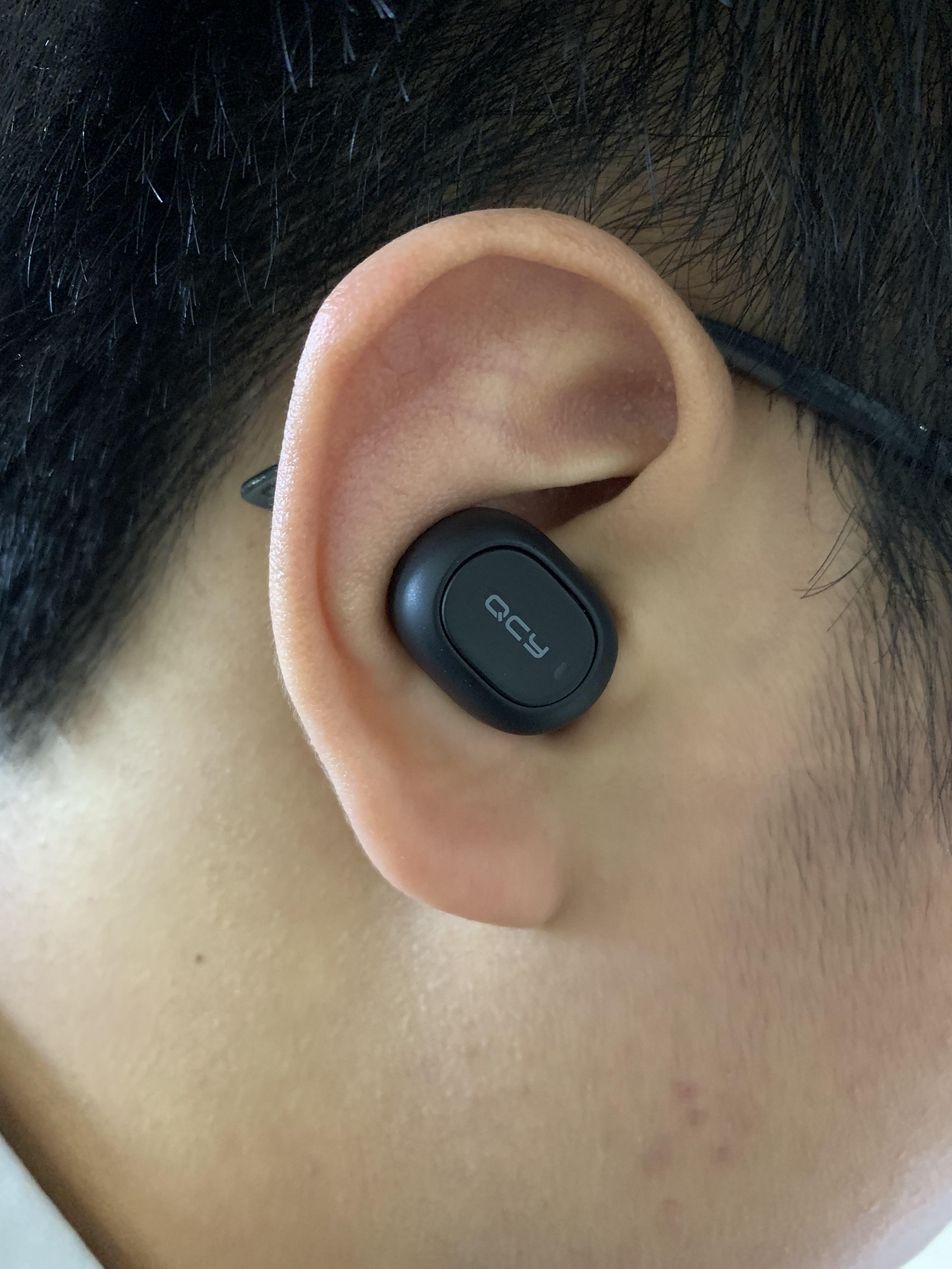earphone: (359, 498, 640, 756)
